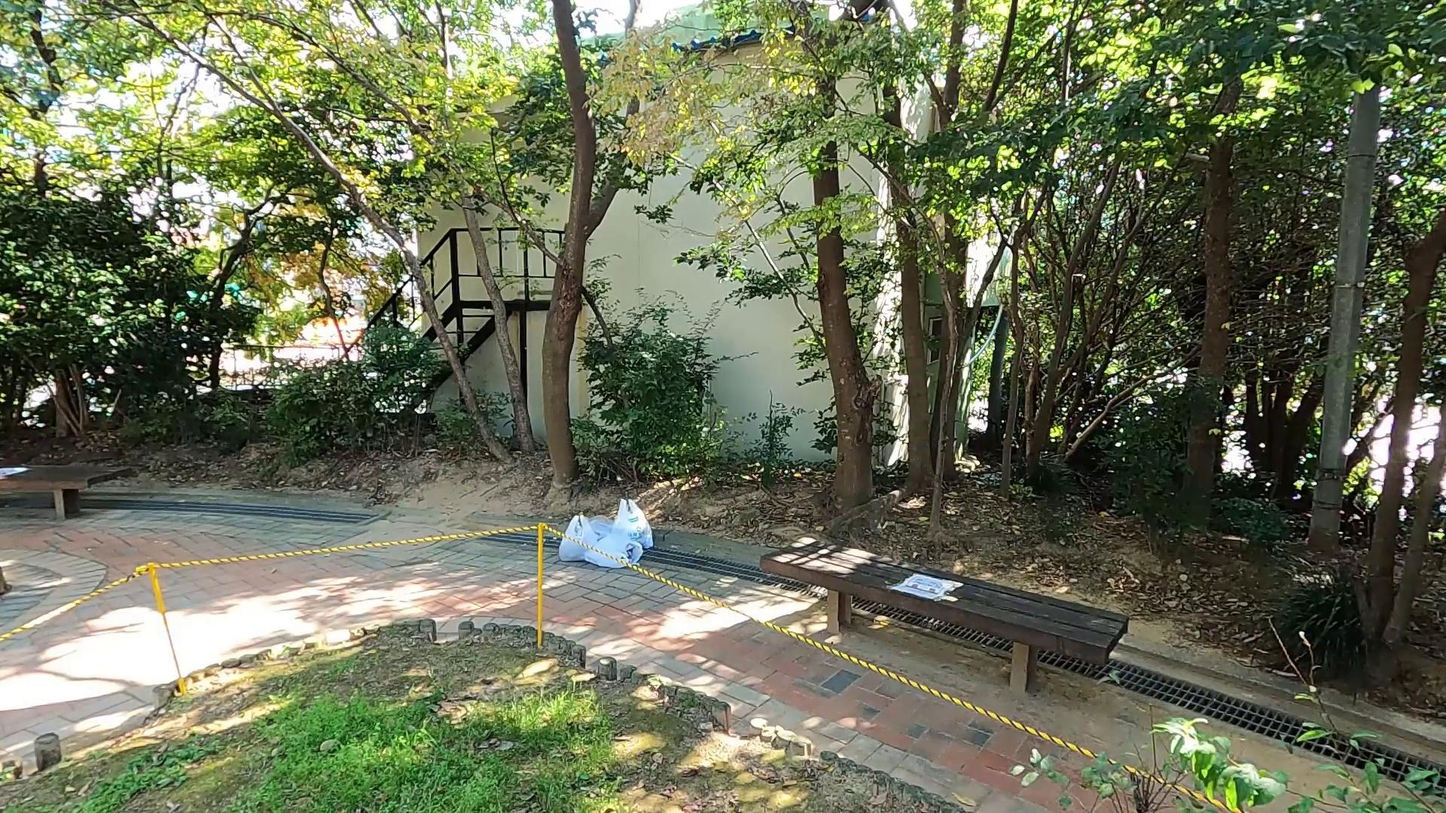trash: (583, 532, 647, 575), (557, 510, 604, 562), (612, 495, 656, 550), (586, 513, 624, 543)
